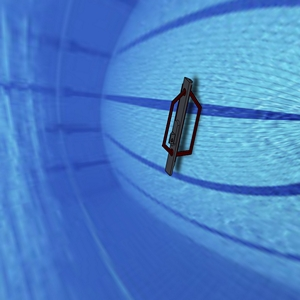submarine: (143, 60, 232, 178)
